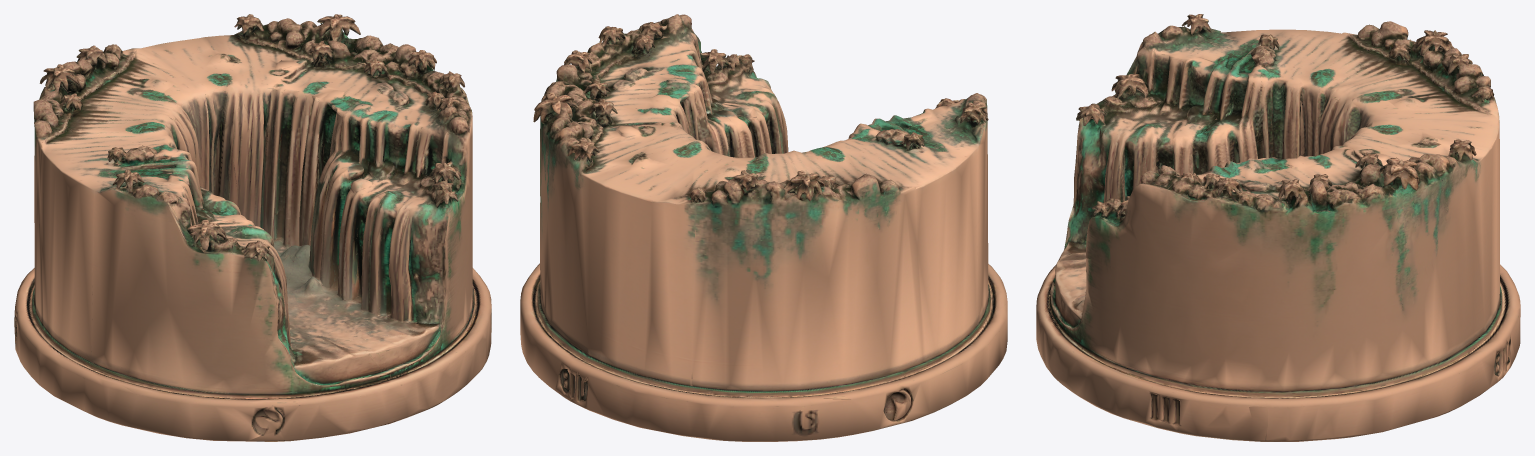
The model's file is iguazu_falls_bronze.glb.
The picture shows the model from 3 angles, left to right: view 1: azimuth 30°, elevation 25°; view 2: azimuth 150°, elevation 25°; view 3: azimuth 270°, elevation 25°; orthographic projection. The views are drawn at different scales.
Visible parts, largest first — view 1: Mesh_0; view 2: Mesh_0; view 3: Mesh_0.
Part boxes in pixels (bbox=[...]): Mesh_0: bbox=[14, 14, 491, 441]; Mesh_0: bbox=[520, 14, 1007, 441]; Mesh_0: bbox=[1036, 14, 1520, 441].
Size of the model in its own units: 1.91 by 1.1 by 1.91.
Materials: 1 (1 with a texture image).
